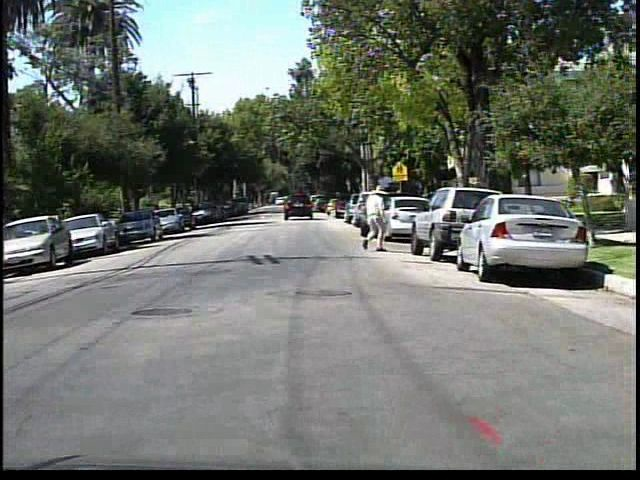person: (352, 184, 395, 256)
